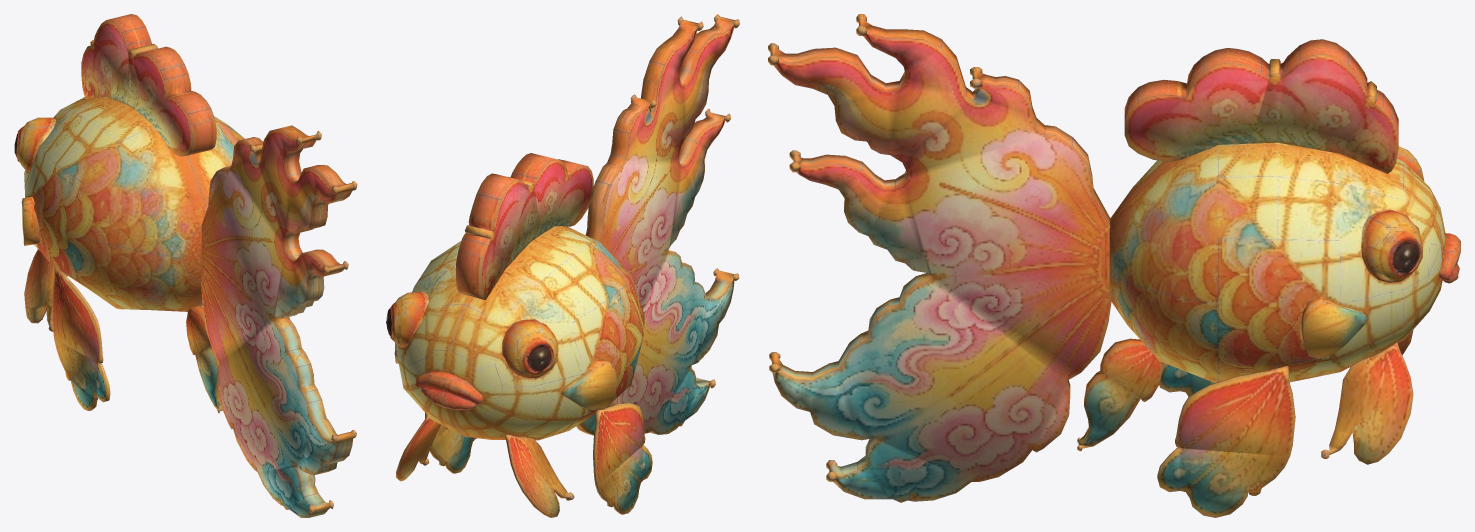
File: 狮子头鱼灯.glb
3 renders of one model, left to right at view 1: azimuth 30°, elevation 25°; view 2: azimuth 150°, elevation 25°; view 3: azimuth 270°, elevation 25°, orthographic. The views are drawn at different scales.
Visible parts, largest first — view 1: tripo_node_84d23e0e-9f7c-47c6-9a08-d724fe43fb72; view 2: tripo_node_84d23e0e-9f7c-47c6-9a08-d724fe43fb72; view 3: tripo_node_84d23e0e-9f7c-47c6-9a08-d724fe43fb72.
Boxes of the visible parts, x1,y1,x2,y2 form: tripo_node_84d23e0e-9f7c-47c6-9a08-d724fe43fb72: (14, 14, 357, 517); tripo_node_84d23e0e-9f7c-47c6-9a08-d724fe43fb72: (386, 14, 739, 517); tripo_node_84d23e0e-9f7c-47c6-9a08-d724fe43fb72: (768, 14, 1460, 517).
Bounding box in the file's own units: 0.4473 × 0.7598 × 0.998.
1 material, 1 textured.
